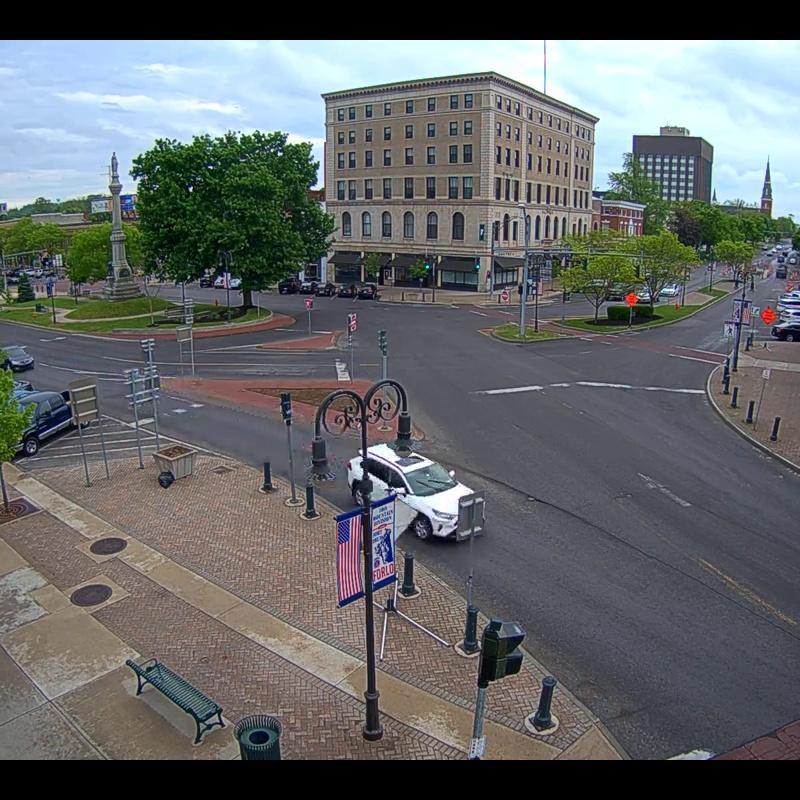car: (344, 443, 496, 540), (0, 346, 33, 371), (772, 322, 800, 344), (278, 276, 302, 294), (358, 284, 380, 301), (781, 308, 800, 327), (314, 284, 336, 296), (299, 280, 317, 294), (338, 284, 357, 297), (660, 284, 680, 296), (774, 266, 786, 278)
